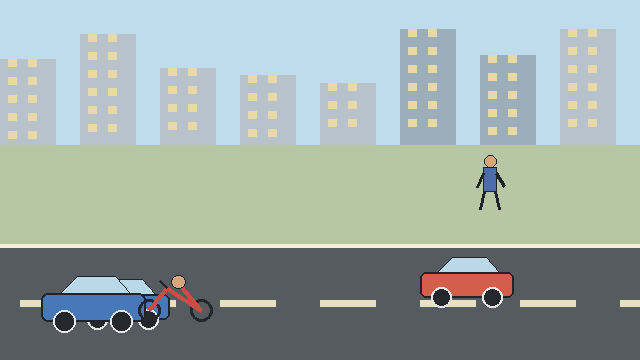car: (41, 276, 145, 332), (76, 279, 169, 329), (420, 257, 513, 307)
motorcycle: (138, 275, 212, 321)
person: (477, 155, 505, 210)
